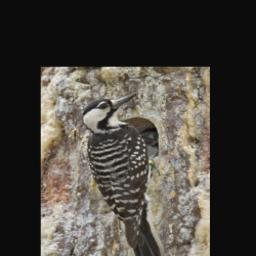Woodpecker: (81, 93, 168, 256)
